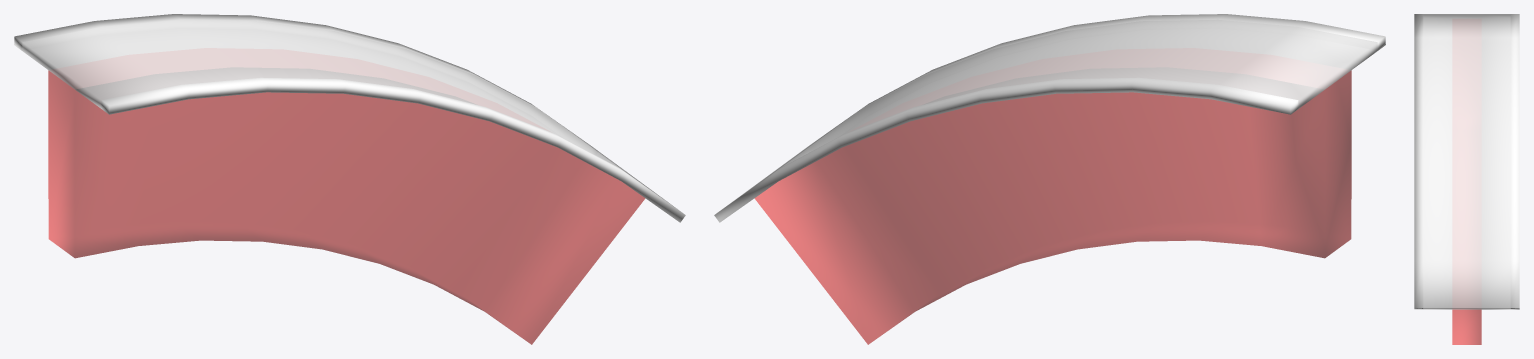
Rendered from FlickNote02.fbx.
3 views of the same model, side by side, from view 1: azimuth 30°, elevation 25°; view 2: azimuth 150°, elevation 25°; view 3: azimuth 270°, elevation 25° (orthographic). The views are drawn at different scales.
Parts seen in each view (by area): view 1: FlickNote02; view 2: FlickNote02; view 3: FlickNote02.
Part boxes in pixels (x1=…): FlickNote02: x1=14, y1=14, x2=685, y2=344; FlickNote02: x1=714, y1=14, x2=1385, y2=344; FlickNote02: x1=1414, y1=14, x2=1519, y2=344.
Size of the model in its own units: 70.05 by 20 by 43.59.
